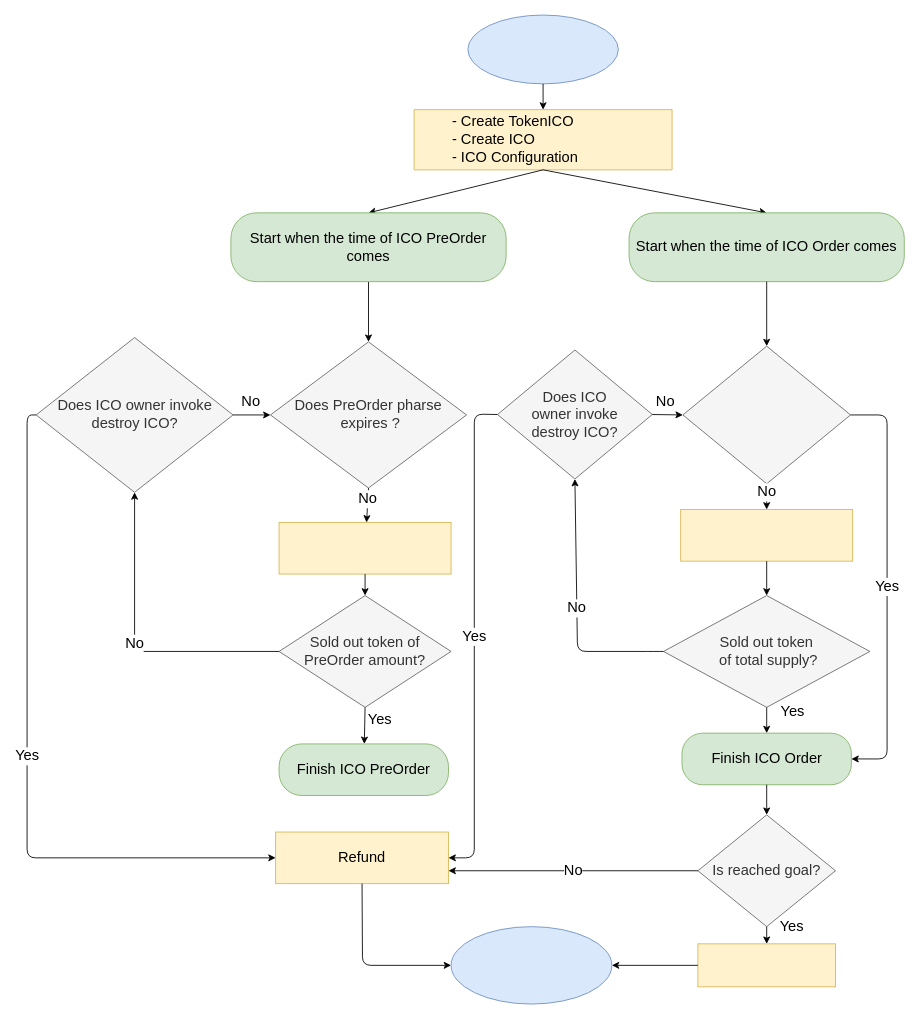
The diagram is 919 pixels wide and 1019 high, and some of its shapes have lost their labels. Here are the shapes that lost their labels. From the top down, the centre of each, then its label:
pixel 542 49: Start ICO
pixel 766 414: Does Order pharse expires ?
pixel 364 548: Handling ICO PreOrder
pixel 766 535: Handling ICO Order
pixel 531 965: Finish ICO
pixel 766 965: Moving to Post-ICO
